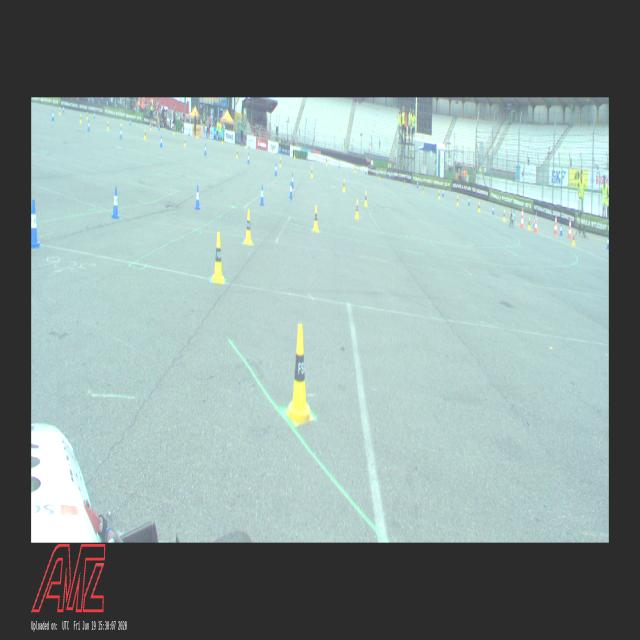blue_cone: (32, 200, 42, 248), (112, 187, 120, 219), (194, 185, 200, 209), (260, 184, 264, 206), (289, 182, 293, 200), (274, 163, 278, 176), (87, 120, 90, 132), (204, 144, 207, 155), (292, 174, 294, 188), (560, 222, 562, 235), (606, 236, 608, 249), (160, 136, 162, 148), (120, 127, 122, 139), (534, 216, 536, 228), (248, 153, 250, 164), (52, 110, 54, 121), (492, 204, 494, 214), (513, 211, 515, 221), (468, 197, 470, 206), (416, 180, 418, 188), (63, 106, 65, 112)
large_orange_cone: (534, 212, 538, 234), (520, 208, 524, 228), (568, 218, 572, 238), (554, 216, 558, 234)
yellow_cone: (286, 324, 314, 424), (212, 232, 225, 283), (244, 210, 252, 244), (313, 206, 319, 232), (363, 190, 368, 207), (355, 200, 359, 220), (572, 232, 576, 246), (342, 179, 346, 192), (528, 217, 530, 230), (311, 166, 313, 178), (503, 210, 505, 222), (478, 202, 480, 213), (280, 157, 282, 167), (184, 138, 186, 148), (144, 130, 146, 140), (107, 121, 109, 131), (438, 190, 440, 200), (456, 196, 458, 206), (80, 114, 82, 123), (422, 185, 424, 194), (120, 118, 122, 126), (59, 107, 61, 115), (86, 112, 88, 120)
